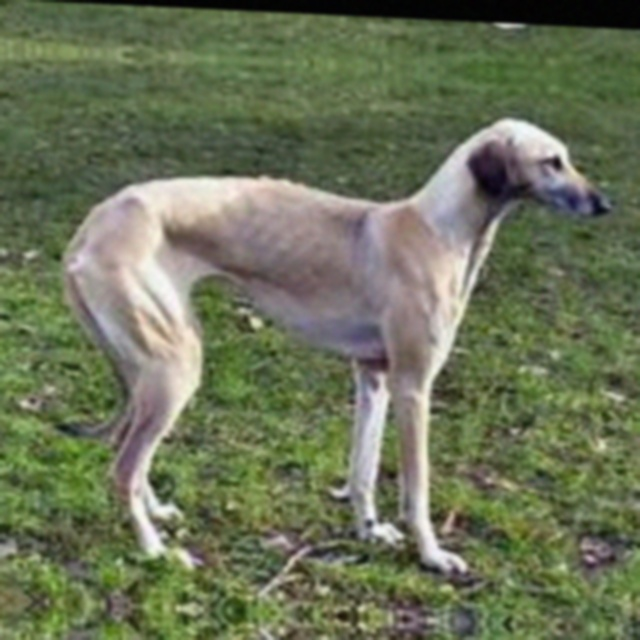dog: (34, 99, 631, 629), (52, 601, 633, 640)
